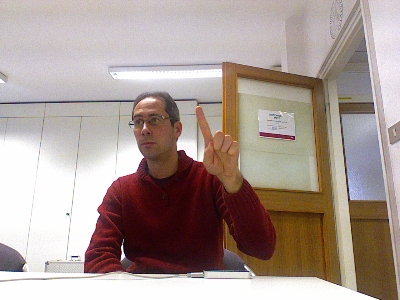食指: (194, 104, 240, 178)
